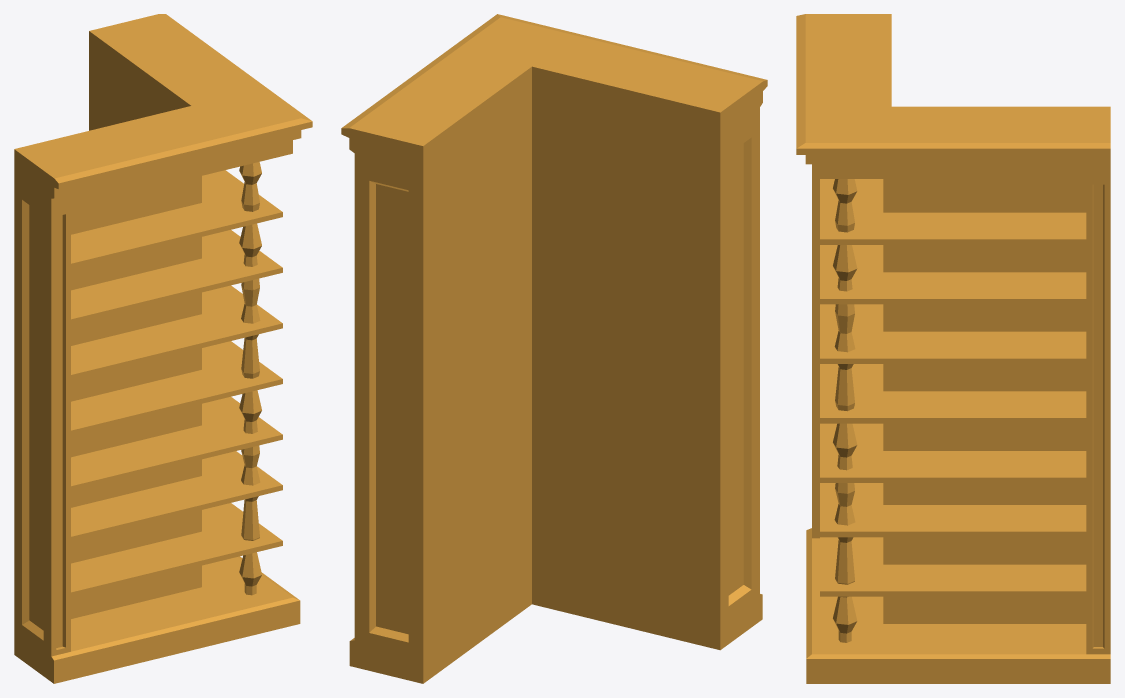
Rendered from SM_Bookcase_Modular_Corner_Outer.fbx.
3 renders of one model, left to right at view 1: azimuth 30°, elevation 25°; view 2: azimuth 150°, elevation 25°; view 3: azimuth 270°, elevation 25°, orthographic. The views are drawn at different scales.
Parts seen in each view (by area): view 1: bookcase-modular-corner-outer; view 2: bookcase-modular-corner-outer; view 3: bookcase-modular-corner-outer.
Part boxes in pixels (x1,y1,x2,y2): bookcase-modular-corner-outer: [14, 14, 312, 683]; bookcase-modular-corner-outer: [341, 14, 767, 683]; bookcase-modular-corner-outer: [796, 14, 1110, 683].
Bounding box in the file's own units: 1.58 × 3 × 1.58.
